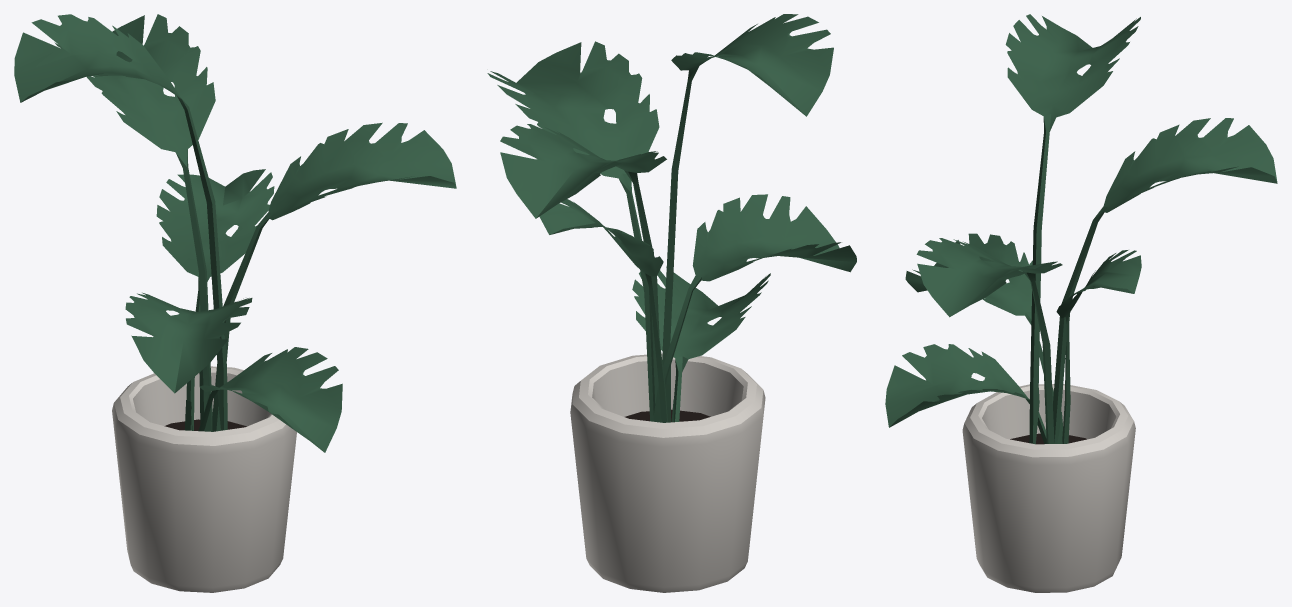
Rendered from Plant.fbx.
3 renders of one model, left to right at view 1: azimuth 30°, elevation 25°; view 2: azimuth 150°, elevation 25°; view 3: azimuth 270°, elevation 25°, orthographic. The views are drawn at different scales.
Visible parts, largest first — view 1: Cylinder.003; view 2: Cylinder.003; view 3: Cylinder.003.
Boxes of the visible parts, left/top/right/bottom form: Cylinder.003: left=14, top=14, right=456, bottom=592; Cylinder.003: left=487, top=14, right=856, bottom=592; Cylinder.003: left=885, top=14, right=1277, bottom=592.
Size of the model in its own units: 95.11 by 134 by 95.8.
